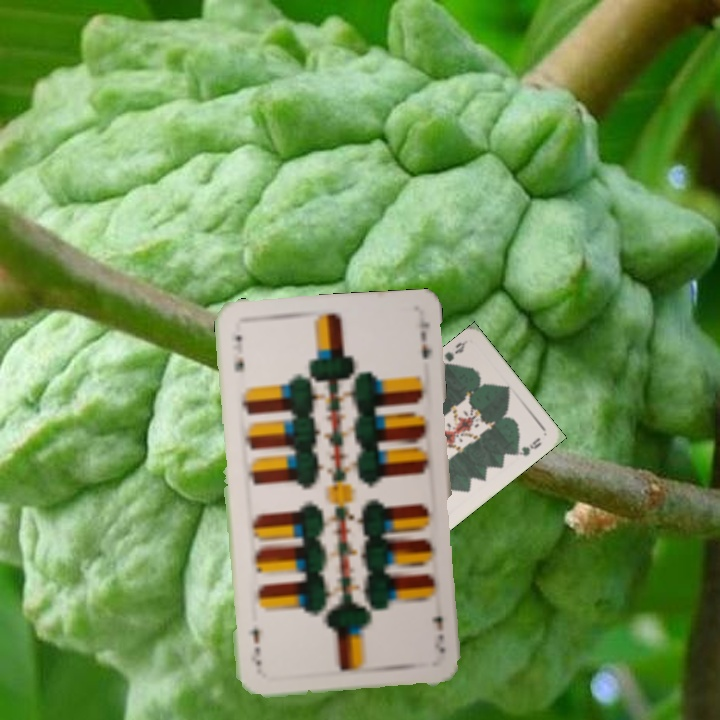E7: (427, 612, 448, 656), (229, 331, 247, 375)
G9: (439, 336, 469, 372)
